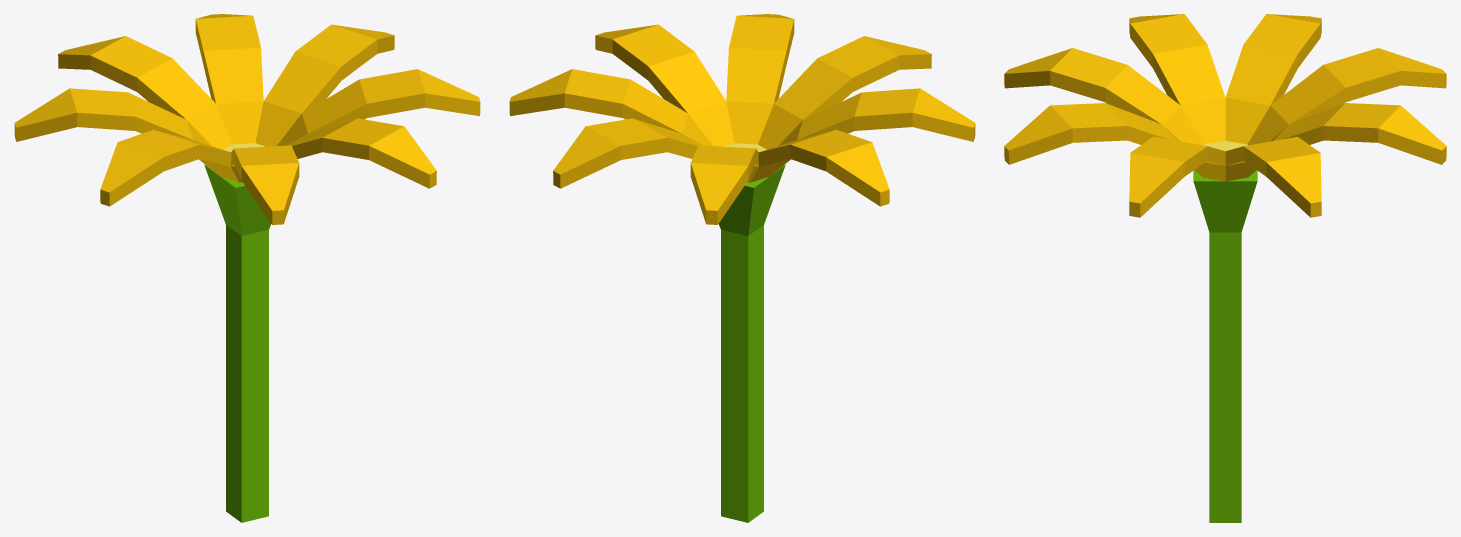
The model's file is Flower_Y.fbx.
3 renders of one model, left to right at view 1: azimuth 30°, elevation 25°; view 2: azimuth 150°, elevation 25°; view 3: azimuth 270°, elevation 25°, orthographic.
Visible parts, largest first — view 1: Flower_01_Bloom; view 2: Flower_01_Bloom; view 3: Flower_01_Bloom.
Part boxes in pixels (left/top/right/bottom): Flower_01_Bloom: left=14, top=14, right=480, bottom=522; Flower_01_Bloom: left=509, top=14, right=975, bottom=522; Flower_01_Bloom: left=1004, top=14, right=1446, bottom=522.
Size of the model in its own units: 16.58 by 17.7 by 16.58.
Materials: 1 (1 with a texture image).
